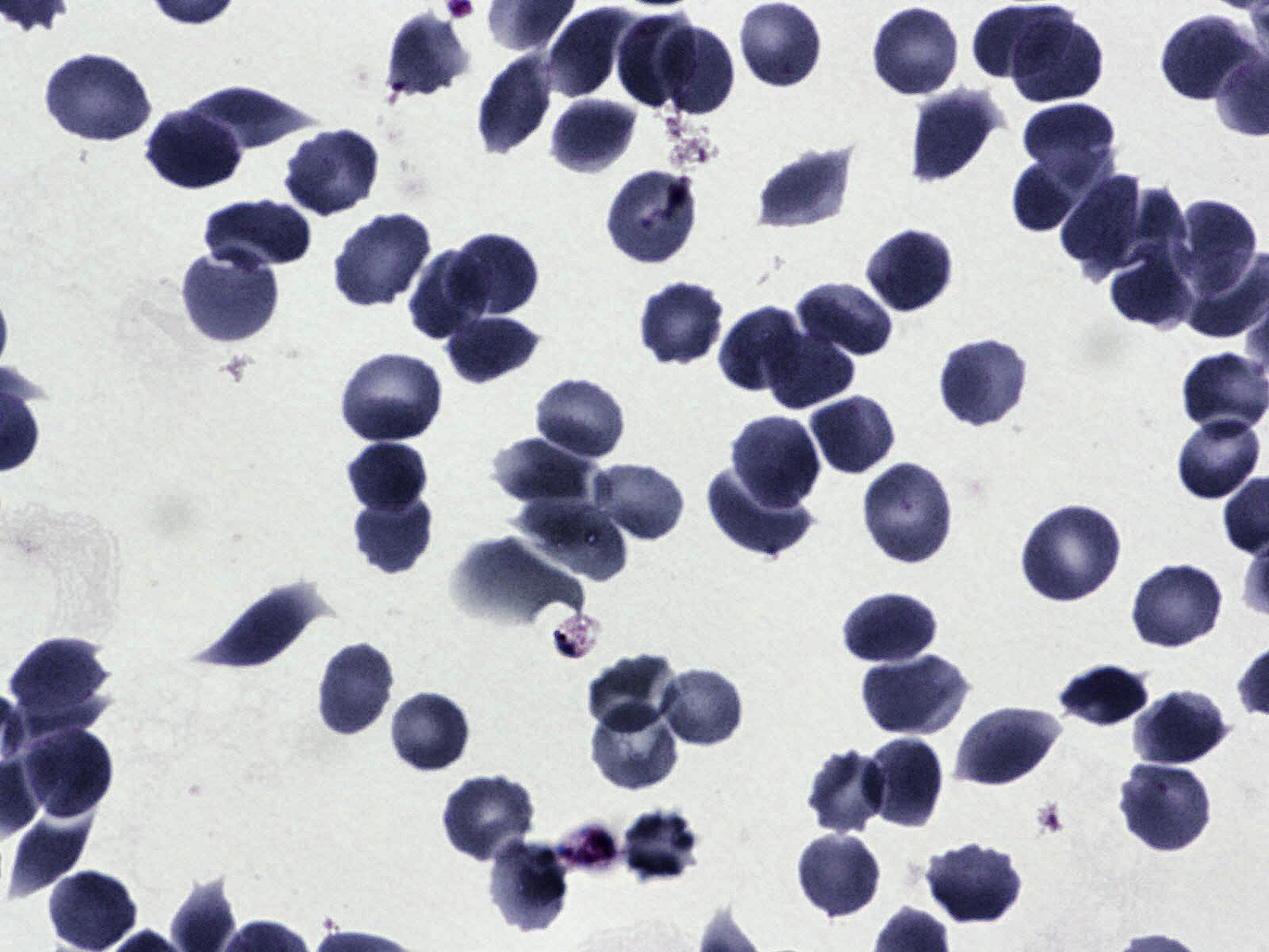Uninfected: (1022, 500, 1127, 608), (205, 582, 326, 674), (339, 351, 449, 447), (864, 459, 958, 566), (955, 705, 1068, 793), (178, 87, 320, 156), (909, 85, 1002, 190), (181, 251, 282, 346), (519, 497, 627, 584), (45, 53, 151, 141), (1005, 17, 1110, 105), (868, 5, 961, 101), (1118, 764, 1217, 854), (441, 773, 538, 864), (859, 661, 972, 739), (1014, 145, 1115, 232), (286, 126, 380, 219), (707, 473, 808, 559), (607, 171, 696, 267), (733, 414, 821, 511), (1163, 16, 1251, 112), (766, 322, 857, 413), (339, 215, 423, 313), (450, 228, 542, 317), (939, 338, 1029, 428), (149, 108, 246, 191), (593, 460, 687, 545), (545, 6, 629, 101), (317, 640, 397, 739), (211, 194, 310, 274), (592, 700, 677, 793), (45, 867, 139, 951), (1093, 187, 1187, 270), (796, 279, 893, 359), (795, 830, 882, 919), (21, 731, 112, 816), (718, 305, 801, 398), (616, 14, 696, 110), (867, 228, 955, 315), (656, 666, 746, 750), (386, 689, 474, 774), (810, 393, 897, 478), (1062, 172, 1141, 265), (1177, 200, 1255, 294), (640, 280, 726, 365), (387, 11, 470, 99), (412, 248, 492, 339), (479, 55, 554, 152), (868, 738, 946, 831), (975, 6, 1070, 81), (926, 851, 1022, 925), (807, 749, 890, 833), (1135, 572, 1217, 657), (590, 654, 678, 733), (485, 442, 598, 503), (1025, 106, 1114, 183), (660, 24, 736, 114), (2, 684, 107, 749), (1111, 246, 1196, 326), (552, 93, 634, 175), (355, 491, 435, 575), (760, 151, 850, 223), (11, 639, 103, 709), (1179, 419, 1259, 499), (12, 817, 92, 897), (617, 807, 703, 881), (845, 597, 937, 666), (539, 385, 622, 461), (743, 3, 819, 86), (1134, 697, 1228, 764), (347, 441, 429, 517), (492, 846, 565, 930), (1062, 663, 1152, 731), (447, 319, 535, 382)
